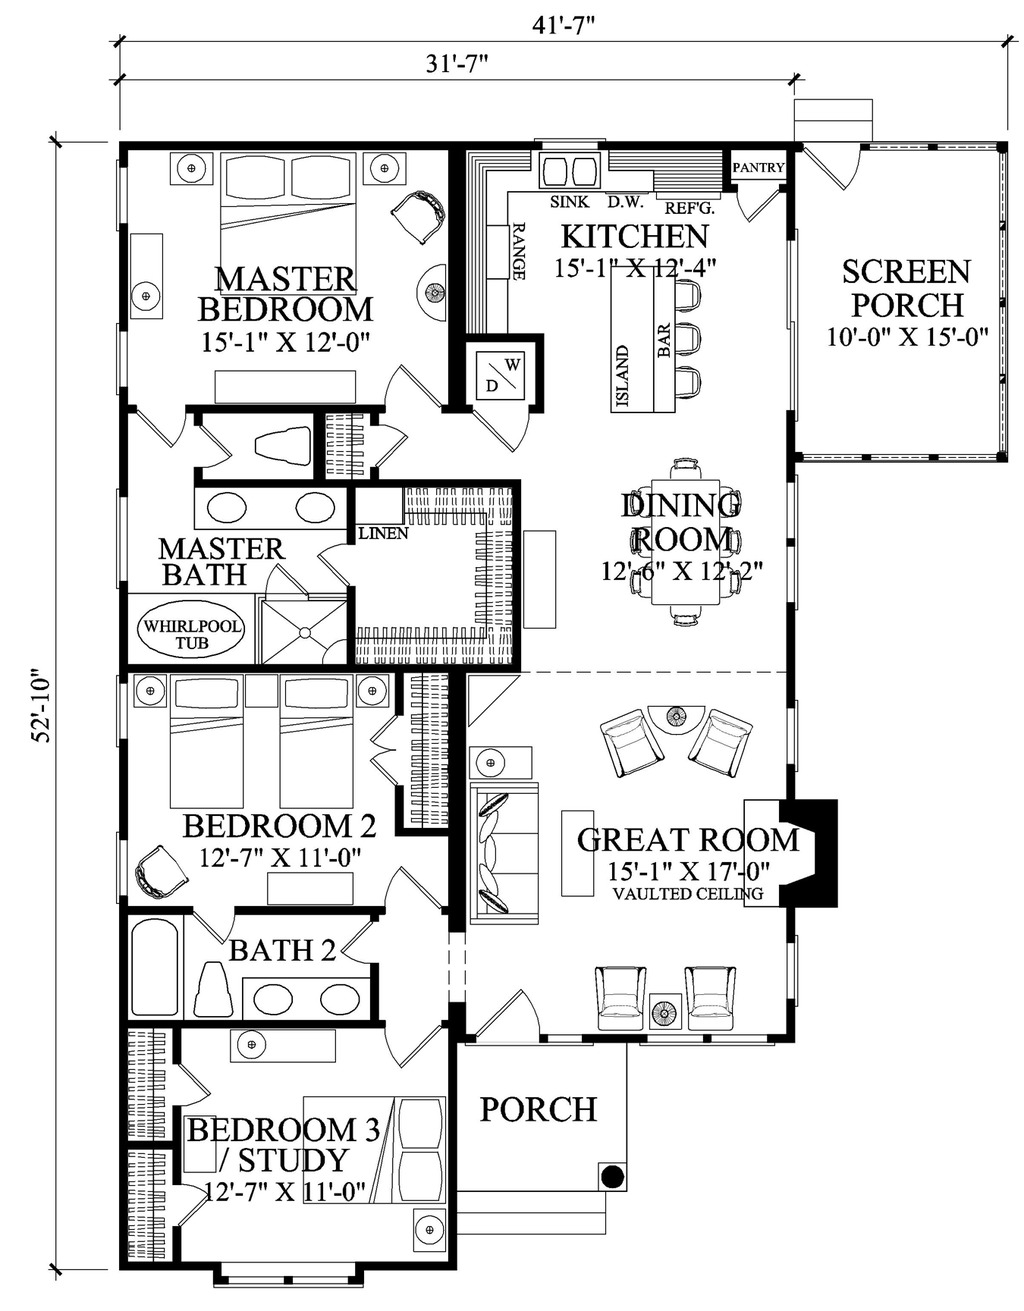bed: (207, 157, 371, 309), (285, 1099, 451, 1205), (271, 659, 361, 825), (161, 673, 255, 823)
dining_table: (602, 451, 759, 657)
door: (465, 977, 559, 1053), (363, 353, 455, 417), (375, 863, 445, 927), (467, 393, 536, 457), (371, 1017, 455, 1067), (127, 401, 201, 453), (373, 709, 417, 795), (181, 413, 235, 483), (311, 522, 369, 587), (802, 142, 865, 199), (181, 905, 249, 955), (163, 1057, 211, 1125), (731, 167, 787, 225), (161, 1179, 219, 1233), (365, 415, 413, 479), (263, 559, 311, 597)
kitchen_bar: (602, 240, 703, 455)
large_sink: (251, 405, 323, 475), (185, 949, 241, 1017)
large_sofa: (475, 785, 549, 937)
small_sink: (183, 481, 365, 527), (241, 969, 375, 1019)
small_sofa: (585, 961, 761, 1038), (683, 706, 755, 793), (601, 711, 675, 787), (383, 187, 453, 259)
tub: (127, 909, 189, 1023)
twin_sink: (536, 139, 611, 187)
window: (213, 1259, 359, 1291), (103, 485, 145, 595), (787, 467, 815, 617), (108, 149, 147, 233), (109, 315, 145, 399), (113, 677, 143, 759), (777, 695, 807, 775), (757, 929, 779, 973)
